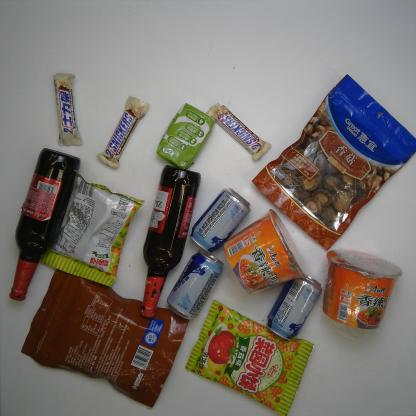Alcohol: (9, 147, 83, 302), (142, 164, 201, 316), (166, 249, 224, 322), (190, 186, 252, 254), (267, 275, 325, 341)
Chocolate: (207, 100, 270, 165), (96, 95, 150, 168), (52, 73, 83, 146)
Dried Food: (258, 73, 416, 250), (21, 266, 187, 408)
Instant Noodles: (219, 210, 307, 300), (322, 247, 403, 330)
Milk: (156, 100, 214, 170)
Puffed Food: (185, 301, 314, 412), (45, 173, 139, 287)
